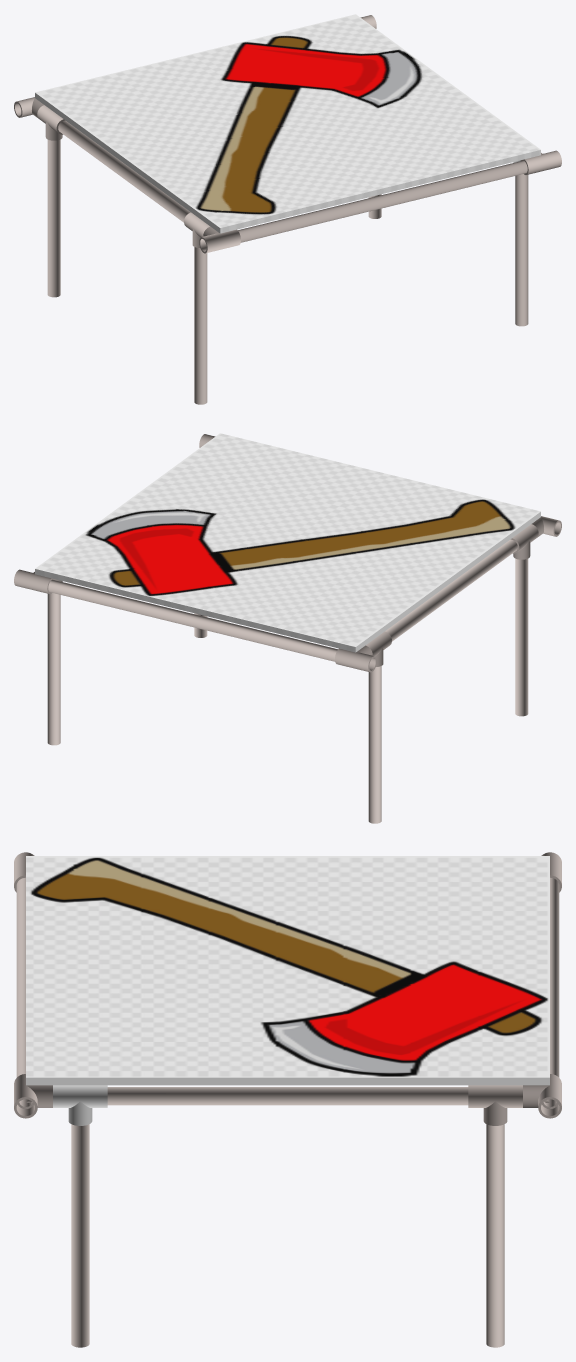
File: table_gman.dae
3 renders of one model, top to bottom at view 1: azimuth 30°, elevation 25°; view 2: azimuth 150°, elevation 25°; view 3: azimuth 270°, elevation 25°, orthographic. The views are drawn at different scales.
Visible parts, largest first — view 1: canvas, pipe_frame_4, pipe_leg_2, pipe_leg_3, pipe_leg_4, pipe_frame_1, T_corner_3, T_corner_4, T_leg_2; view 2: canvas, pipe_frame_2, pipe_leg_3, pipe_leg_2, pipe_leg_1, pipe_frame_1, T_corner_2, T_corner_1, T_leg_3; view 3: canvas, pipe_frame_3, pipe_leg_4, pipe_leg_1, pipe_frame_4, pipe_frame_2, T_leg_4, T_leg_1, T_corner_4, T_corner_1.
Boxes of the visible parts, left/top/right/bottom form: canvas: left=35, top=14, right=540, bottom=233; pipe_frame_4: left=238, top=160, right=527, bottom=242; pipe_leg_2: left=47, top=139, right=60, bottom=297; pipe_leg_3: left=194, top=247, right=207, bottom=404; pipe_leg_4: left=515, top=174, right=528, bottom=326; pipe_frame_1: left=58, top=120, right=190, bottom=222; T_corner_3: left=199, top=226, right=240, bottom=253; T_corner_4: left=520, top=150, right=561, bottom=174; T_leg_2: left=37, top=105, right=65, bottom=140; canvas: left=35, top=433, right=540, bottom=652; pipe_frame_2: left=48, top=579, right=337, bottom=661; pipe_leg_3: left=515, top=558, right=528, bottom=716; pipe_leg_2: left=368, top=666, right=381, bottom=823; pipe_leg_1: left=47, top=593, right=60, bottom=745; pipe_frame_1: left=385, top=539, right=517, bottom=641; T_corner_2: left=335, top=645, right=376, bottom=672; T_corner_1: left=14, top=569, right=55, bottom=593; T_leg_3: left=510, top=524, right=538, bottom=559; canvas: left=26, top=856, right=549, bottom=1085; pipe_frame_3: left=107, top=1087, right=468, bottom=1105; pipe_leg_4: left=71, top=1124, right=89, bottom=1347; pipe_leg_1: left=486, top=1124, right=504, bottom=1347; pipe_frame_4: left=16, top=877, right=25, bottom=1077; pipe_frame_2: left=550, top=877, right=559, bottom=1077; T_leg_4: left=53, top=1085, right=107, bottom=1125; T_leg_1: left=468, top=1085, right=522, bottom=1125; T_corner_4: left=14, top=1074, right=52, bottom=1118; T_corner_1: left=523, top=1074, right=561, bottom=1118.
Bounding box in the file's own units: 0.6731 × 0.6371 × 0.3413.
Materials: 3 (1 with a texture image).
